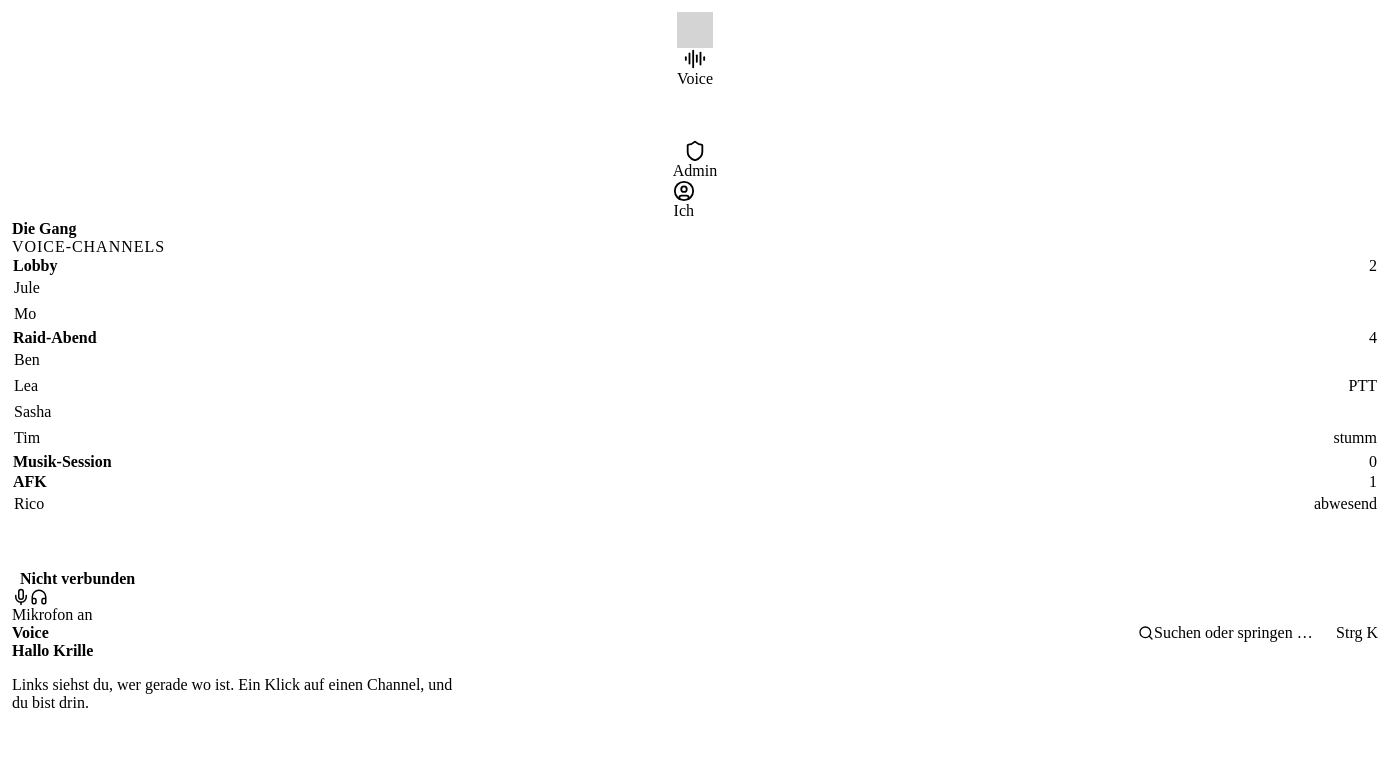
Test case: Ich module › shows the diagnosis with the timeline and exports it
Expected: the heading "Hallo Krille" is shown, [12,642,93,659]
Click the button "Raid-Abend 4" at (55, 338), box [13,329,1377,347]
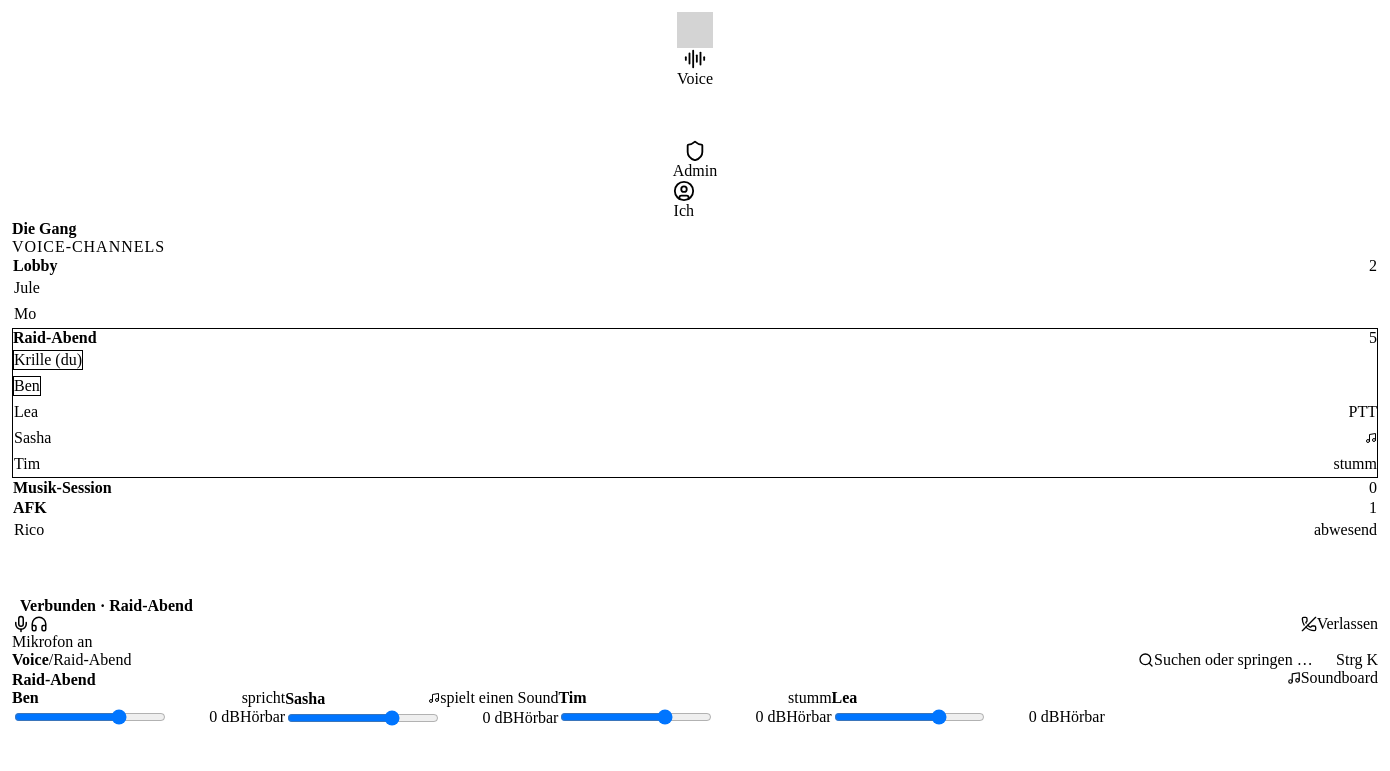
Result: the heading "Raid-Abend" is shown at [12,671,96,689]
Click the button "Ich" at (684, 200), box [673,180,695,220]
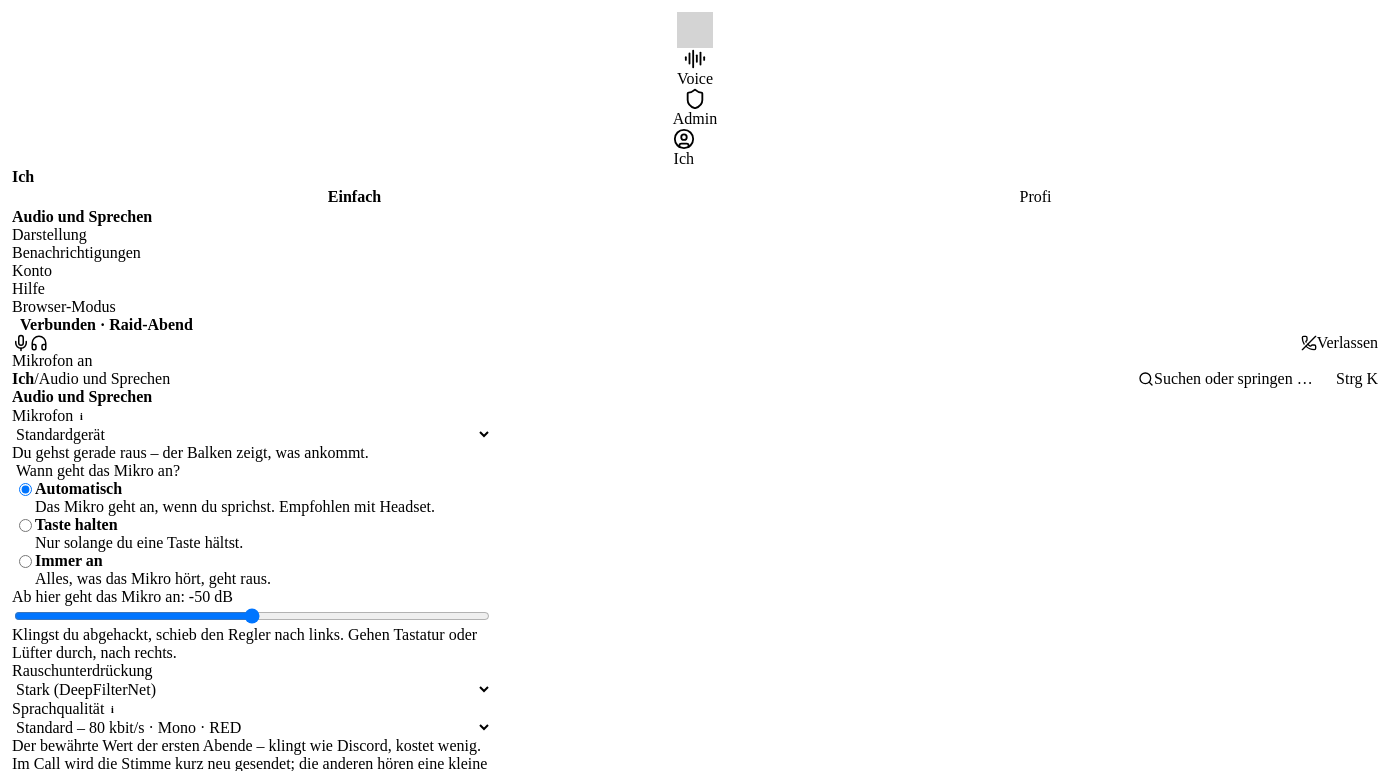
Click the radio button labelled "Profi" at (1036, 196), box [1020,188,1052,205]
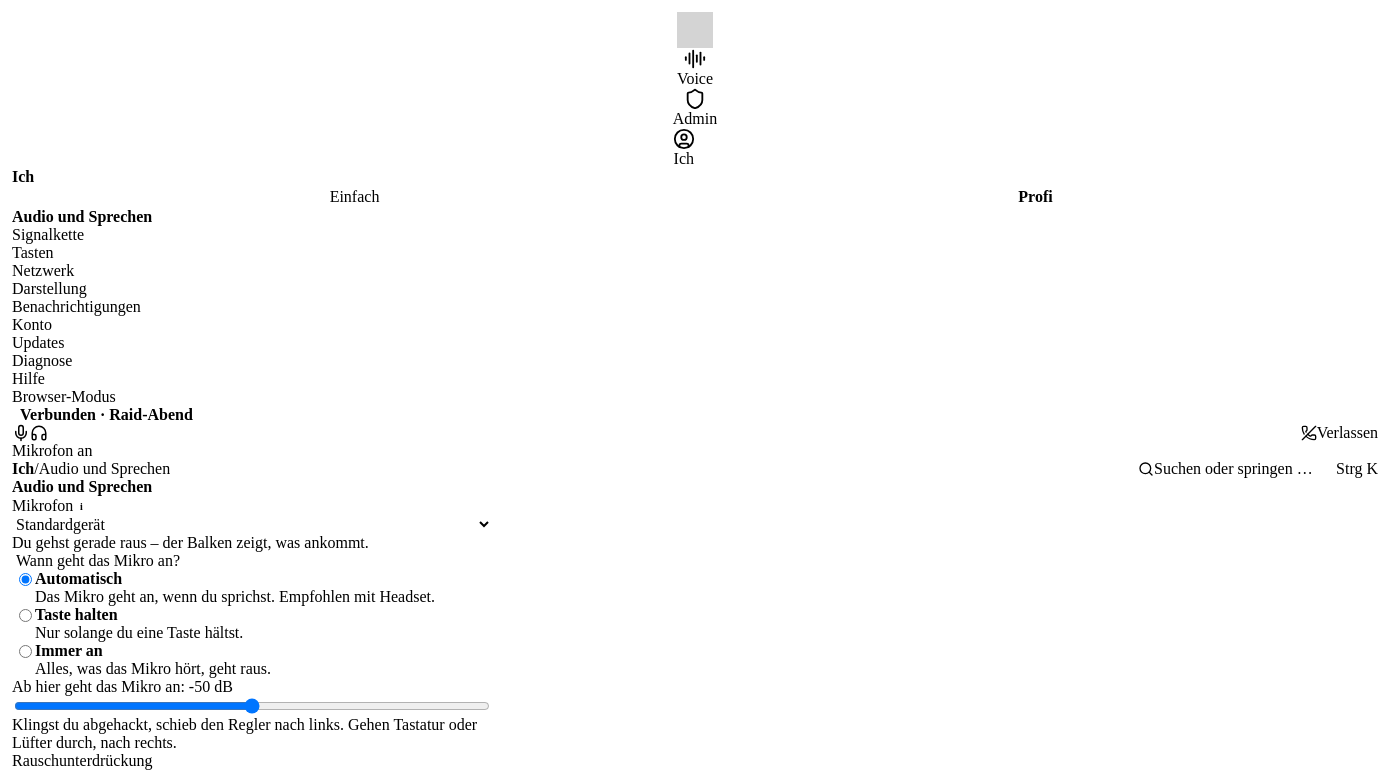
Click the button "Diagnose" at (42, 360), box [12,352,1378,370]
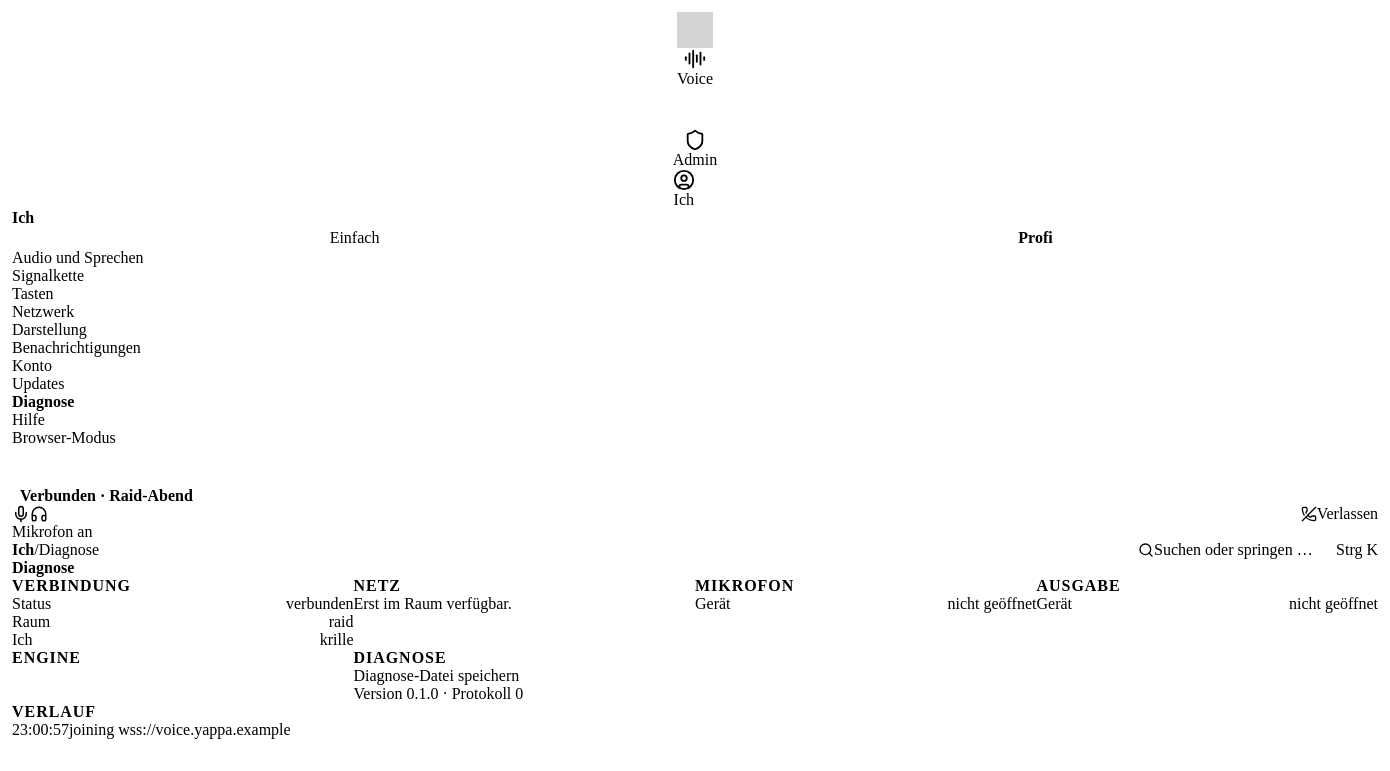
Result: the text "verbunden" is shown at [286,595,354,612]
Result: the text "raid" is shown at [329,613,354,630]
Result: the text "joining wss://voice.yappa.example" is shown at [69,721,291,738]
Click the button "Diagnose-Datei speichern" at (436, 676), box [354,667,519,685]
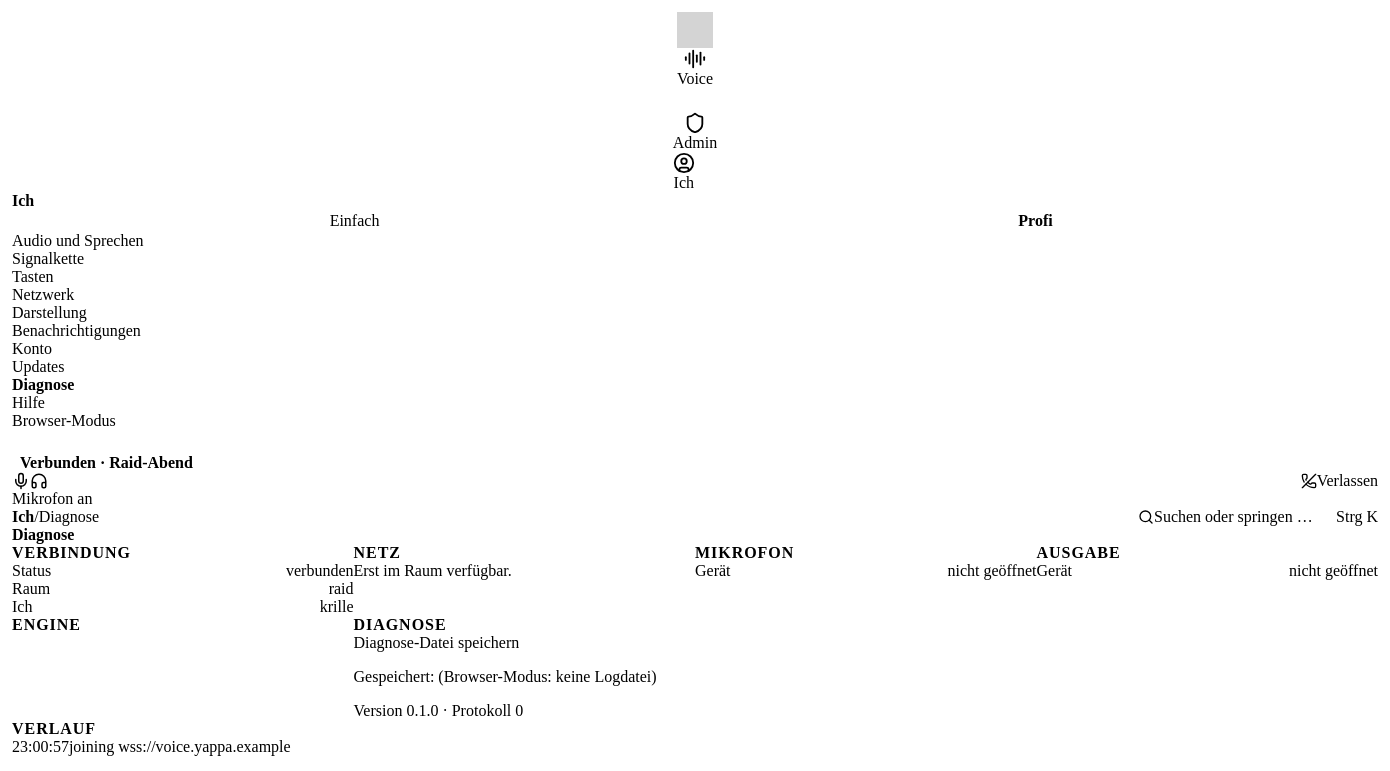
Result: the text "Gespeichert: (Browser-Modus: keine Logdatei)" is shown at [354,668,695,686]
